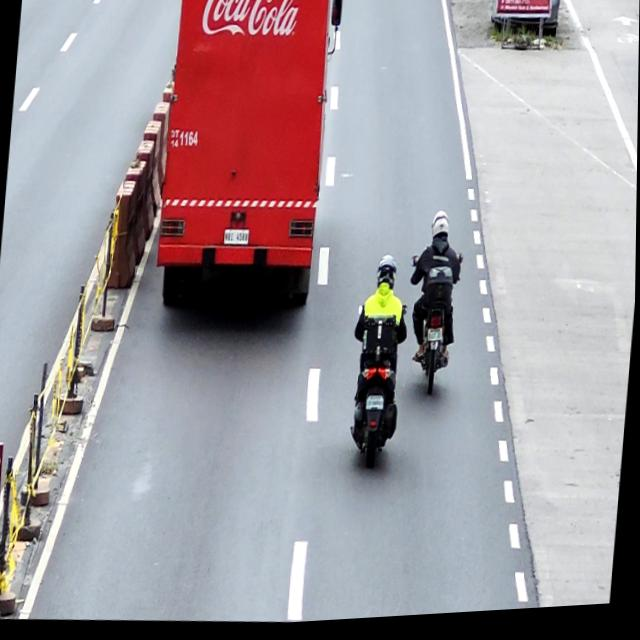License-Plate: (224, 230, 250, 250), (366, 399, 386, 416), (428, 332, 443, 345)
Motorcycle: (346, 305, 408, 475), (402, 256, 465, 402)
Truck: (151, 0, 346, 318)
